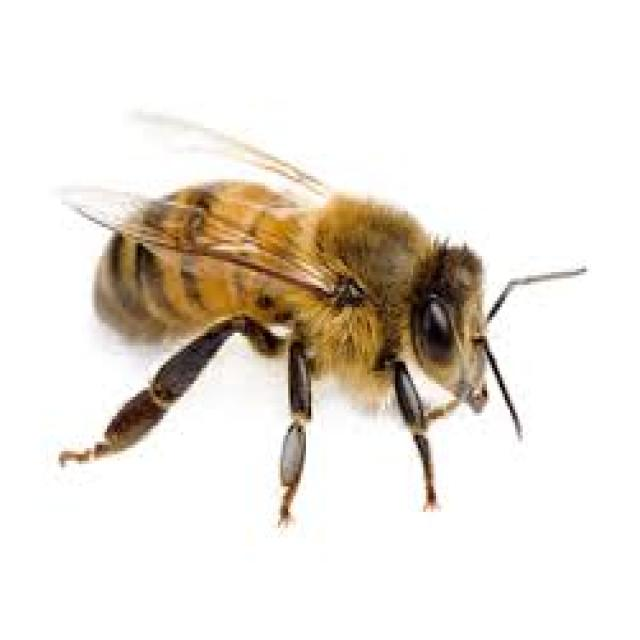Bees: (55, 106, 589, 540)
